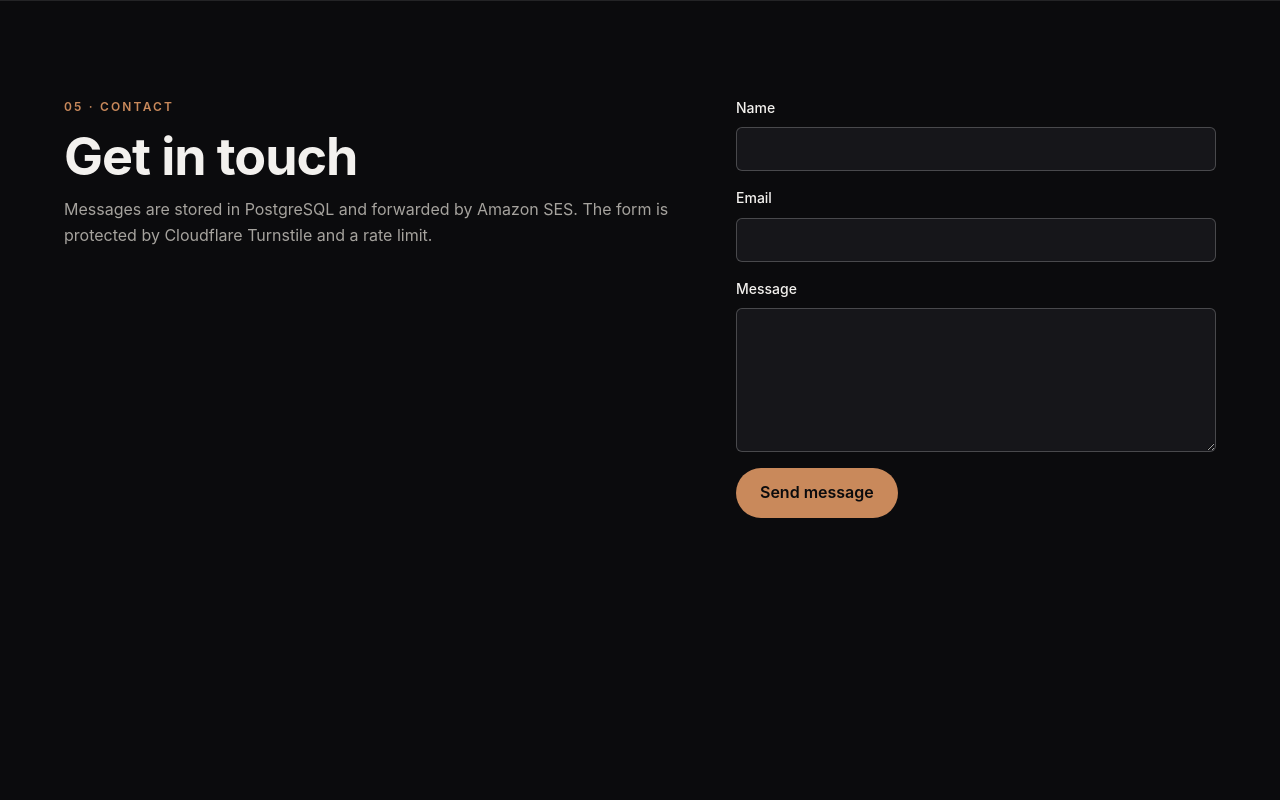
Scenario: Contact › shows the server error
Type "Ada" into the field labelled "Name" at (976, 149), box x1=736 y1=127 x2=1216 y2=171
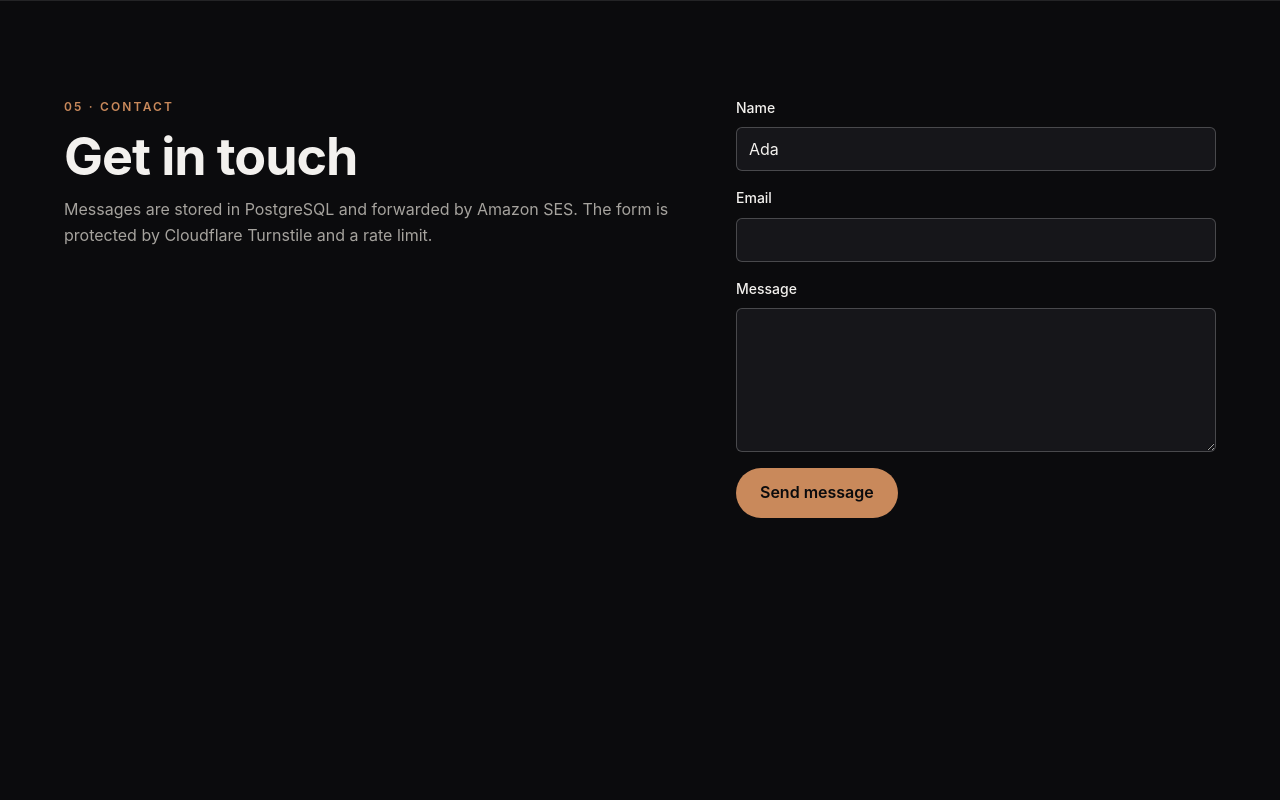
Type "ada@example.com" into the field labelled "Email" at (976, 240), box x1=736 y1=218 x2=1216 y2=262
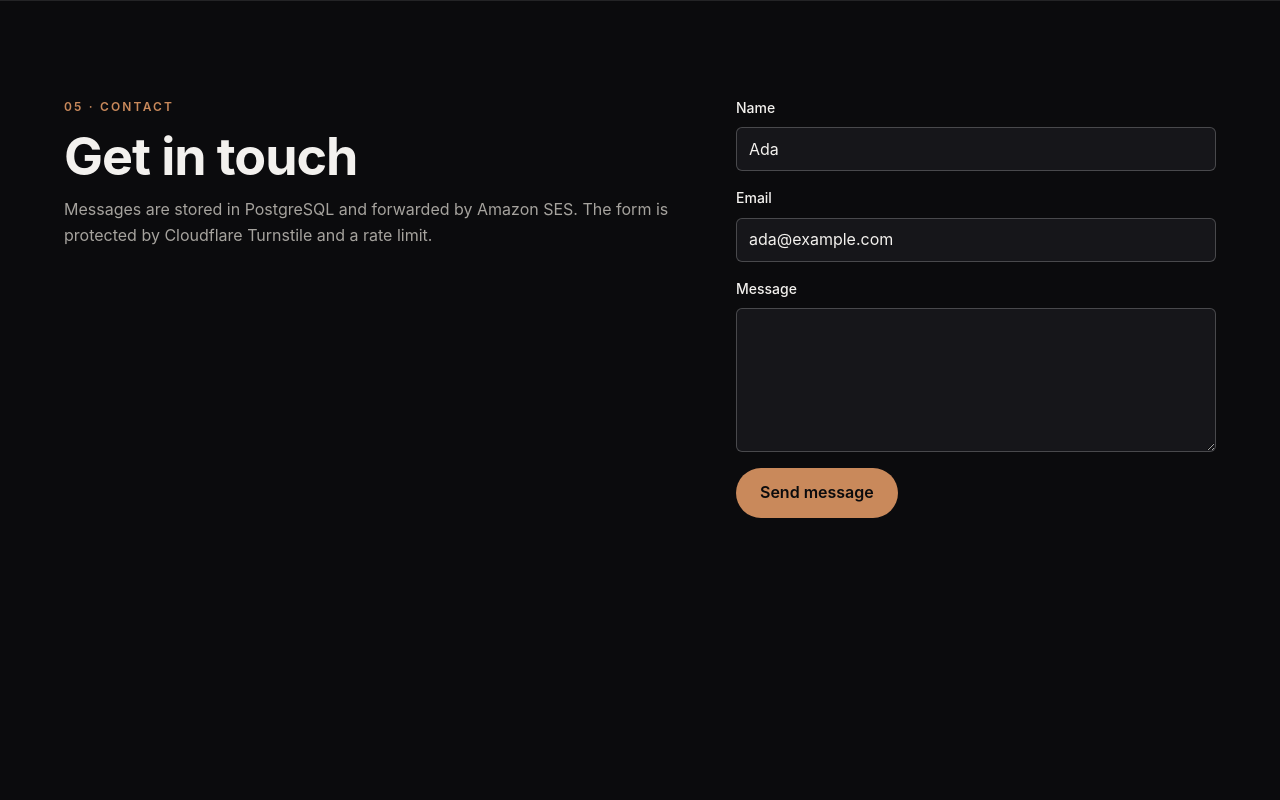
Type "Hello there, nice site!" into the text box labelled "Message" at (976, 380), box x1=736 y1=308 x2=1216 y2=452
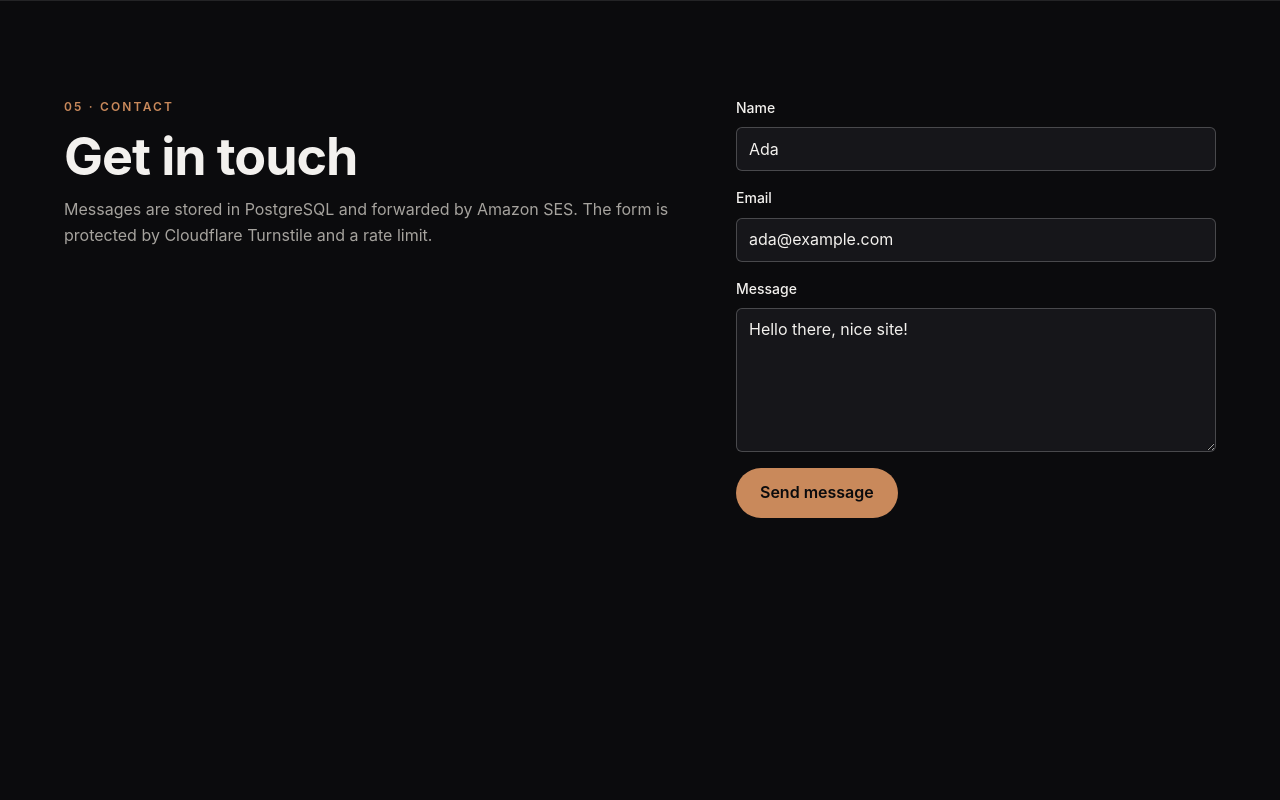
Click the button "Send message" at (817, 493), box x1=736 y1=468 x2=898 y2=518
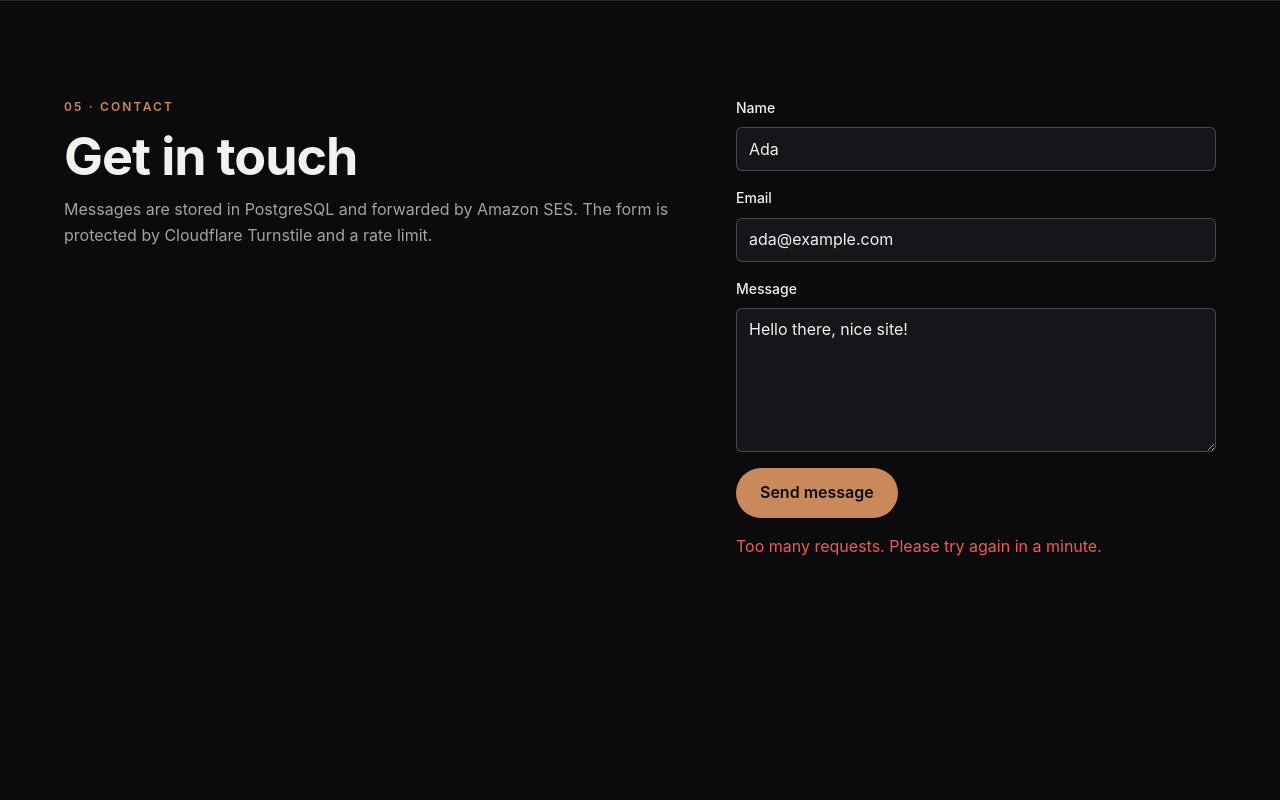
Check: the text "Too many requests. Please try again in a minute." is shown, box x1=736 y1=536 x2=1102 y2=556
